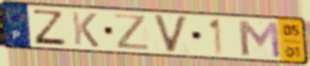1: (207, 17, 225, 58)
K: (70, 10, 101, 49)
M: (235, 18, 283, 60)
V: (151, 13, 191, 55)
Z: (113, 13, 153, 52), (32, 8, 69, 47)
